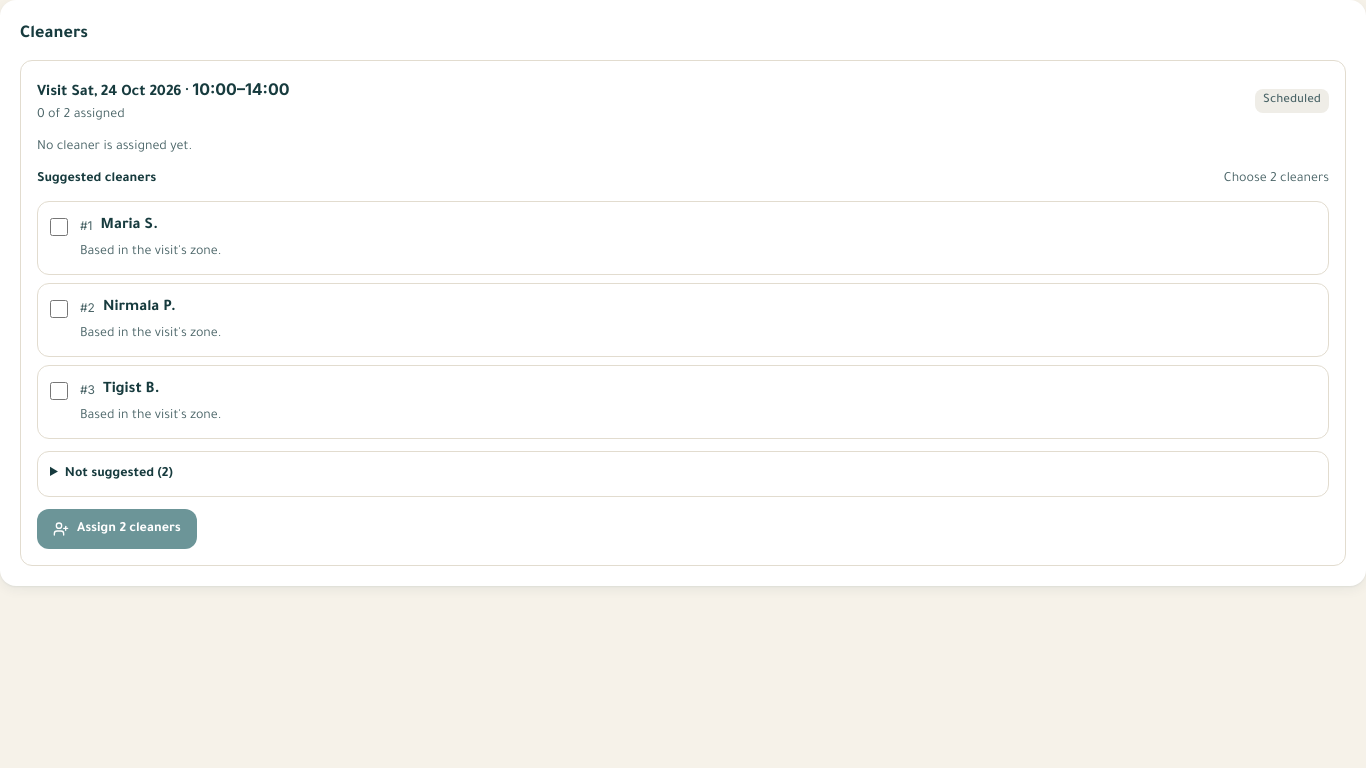
Scenario: assignment panel (§8.5–§8.7) › names exactly the missing number of cleaners, ranked with their reasons
Expected: the button "Assign 2 cleaners" is disabled, [37,509,197,549]
Expected: the number of list items "Based in the visit's zone." is 3, [80,245,222,259]; [80,327,222,341]; [80,409,222,423]
Click the checkbox named "Assign Maria S.": (59,227) [50,218,68,236]
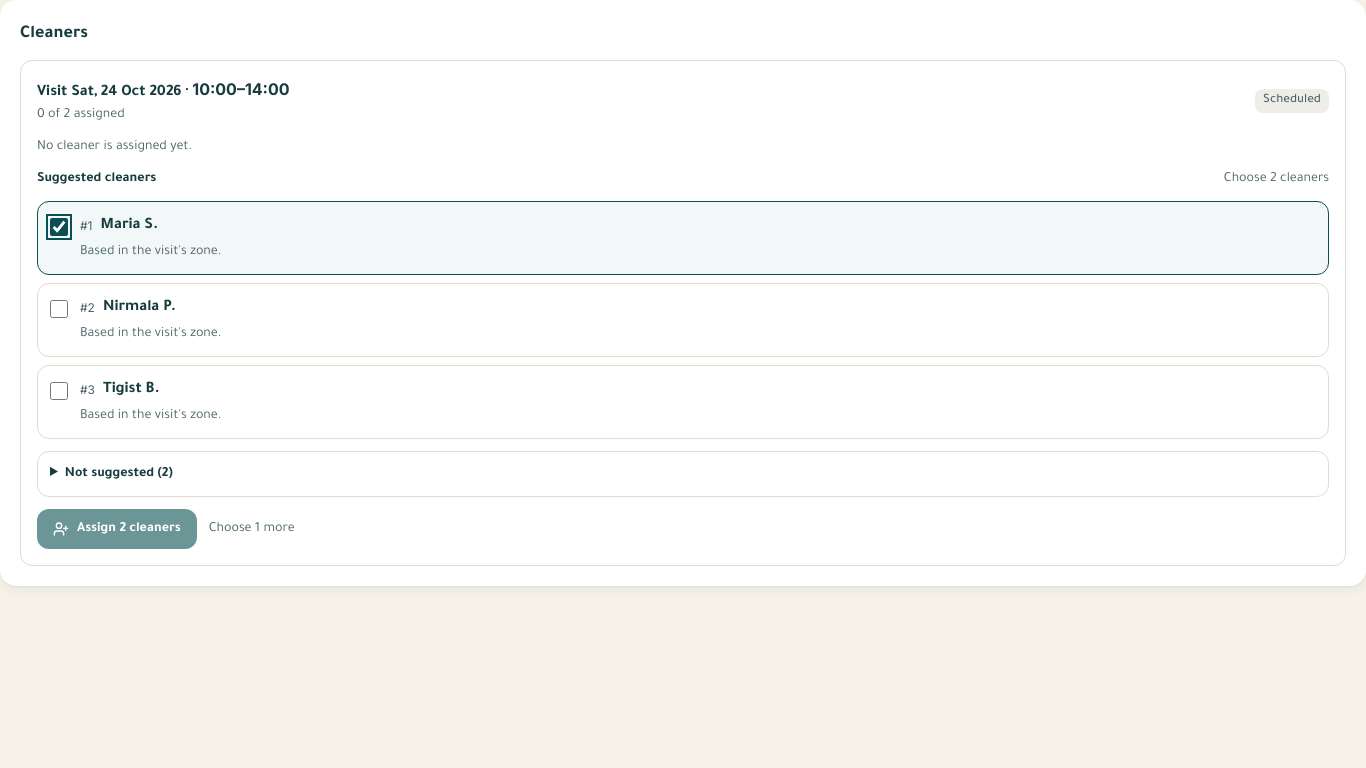
Expected: the button "Assign 2 cleaners" is disabled, [37,509,197,549]
Result: the text "Choose 1 more" is shown at [209,519,295,539]
Click the checkbox named "Assign Nirmala P.": (59,309) [50,300,68,318]
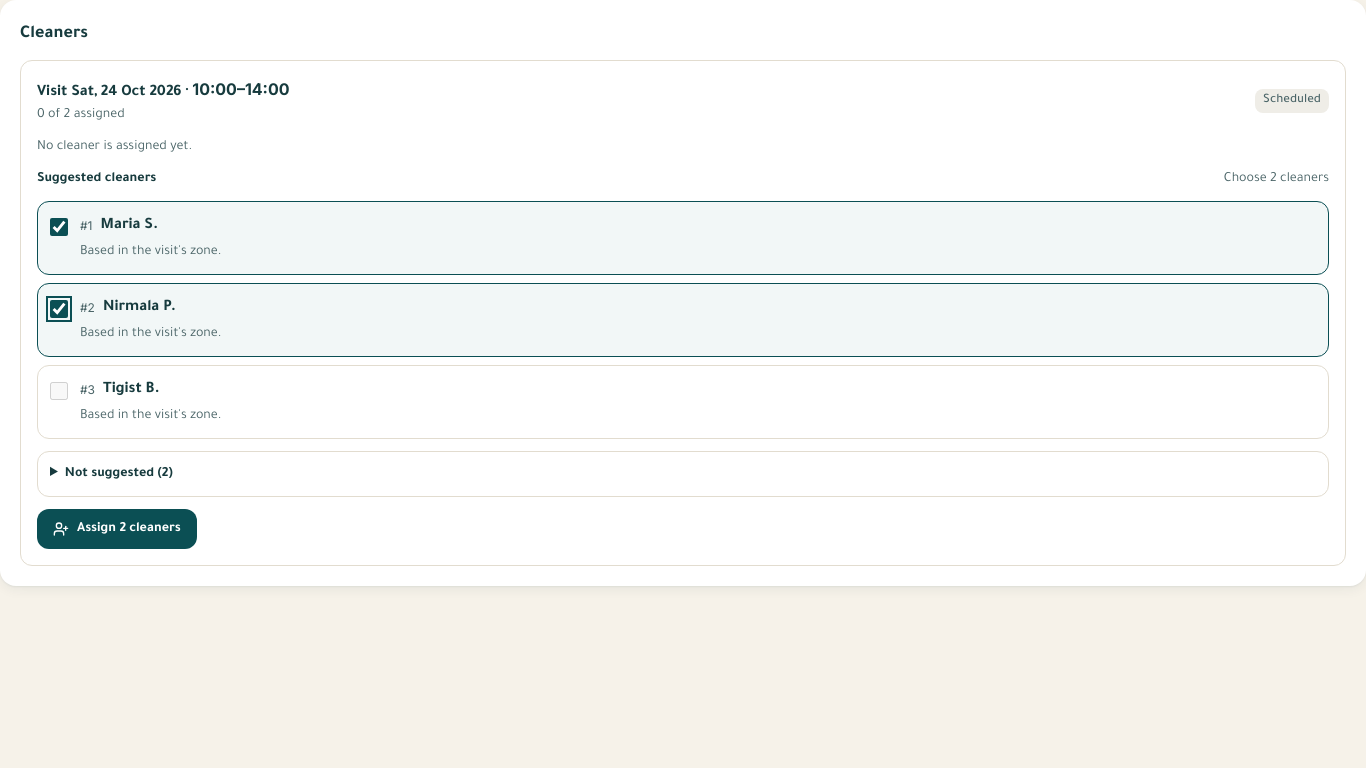
Result: the button "Assign 2 cleaners" is enabled
Result: the checkbox named "Assign Tigist B." is disabled at [50,382,68,400]
Click the button "Assign 2 cleaners": (117,529) [37,509,197,549]
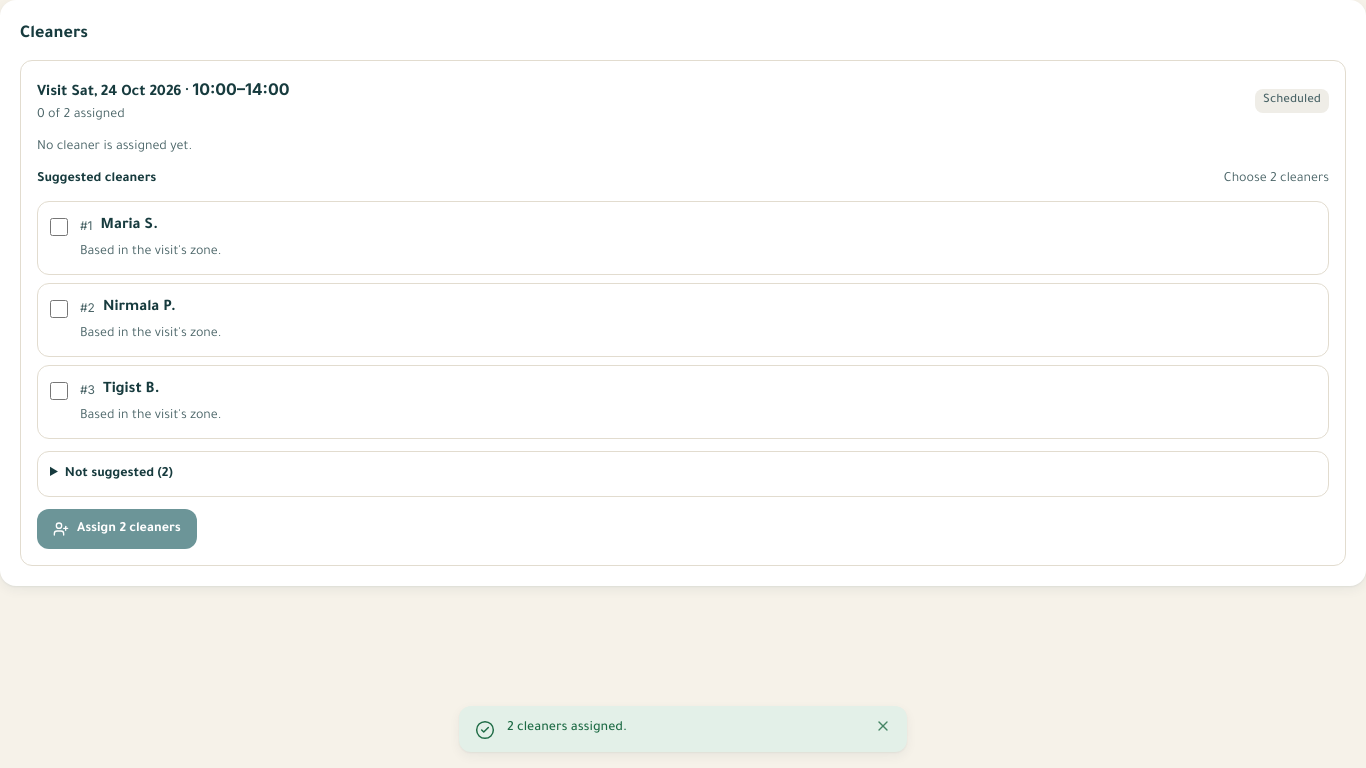
Result: the text "2 cleaners assigned." is shown at [507,721,627,735]
